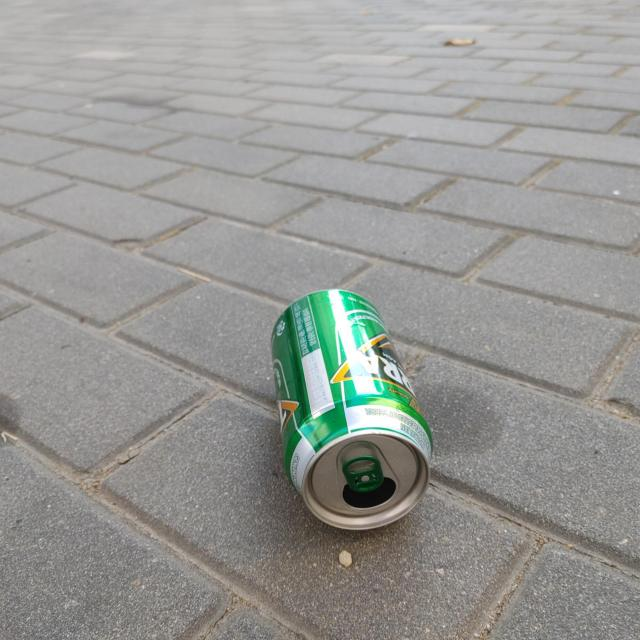can: (272, 289, 433, 531)
